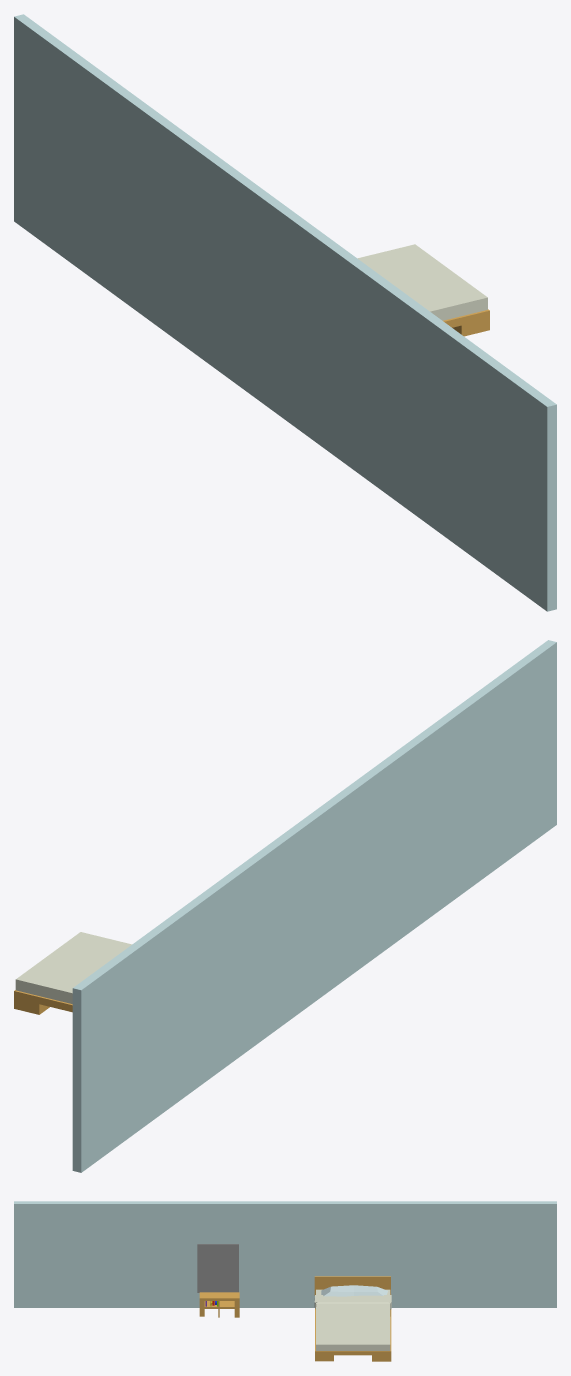
The model's file is Tlax-room.glb.
The picture shows the model from 3 angles, top to bottom: view 1: azimuth 30°, elevation 25°; view 2: azimuth 150°, elevation 25°; view 3: azimuth 270°, elevation 25°; orthographic projection. The views are drawn at different scales.
Visible parts, largest first — view 1: Cubo.012, Cubo.003, Cubo; view 2: Cubo.012, Cubo.003, Cubo; view 3: Cubo.012, Cubo.003, Cubo.011, Cubo.001, Cubo.005, Cubo, Cubo.004.
Part boxes in pixels (x1,y1,x2,y2): Cubo.012: [14, 14, 556, 611]; Cubo.003: [357, 244, 487, 320]; Cubo: [443, 309, 489, 336]; Cubo.012: [72, 640, 556, 1172]; Cubo.003: [15, 932, 131, 1003]; Cubo: [14, 990, 72, 1014]; Cubo.012: [14, 1201, 556, 1307]; Cubo.003: [314, 1289, 391, 1350]; Cubo.011: [197, 1244, 238, 1292]; Cubo.001: [314, 1276, 390, 1295]; Cubo.005: [199, 1292, 239, 1317]; Cubo: [315, 1308, 391, 1361]; Cubo.004: [321, 1285, 387, 1296].
Size of what is drawn, in the model's own units: 7.93 by 6.57 by 30.72.
